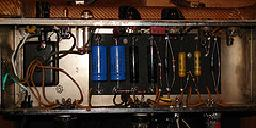Electrolytic-Capacitor: (108, 42, 125, 86), (91, 40, 105, 87)
